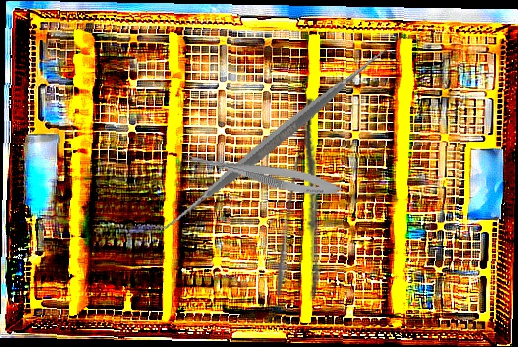Dressing Forceps: (271, 94, 348, 303)
Micro Scissor: (179, 147, 344, 202)
Spatula Surgical: (148, 12, 399, 268)
